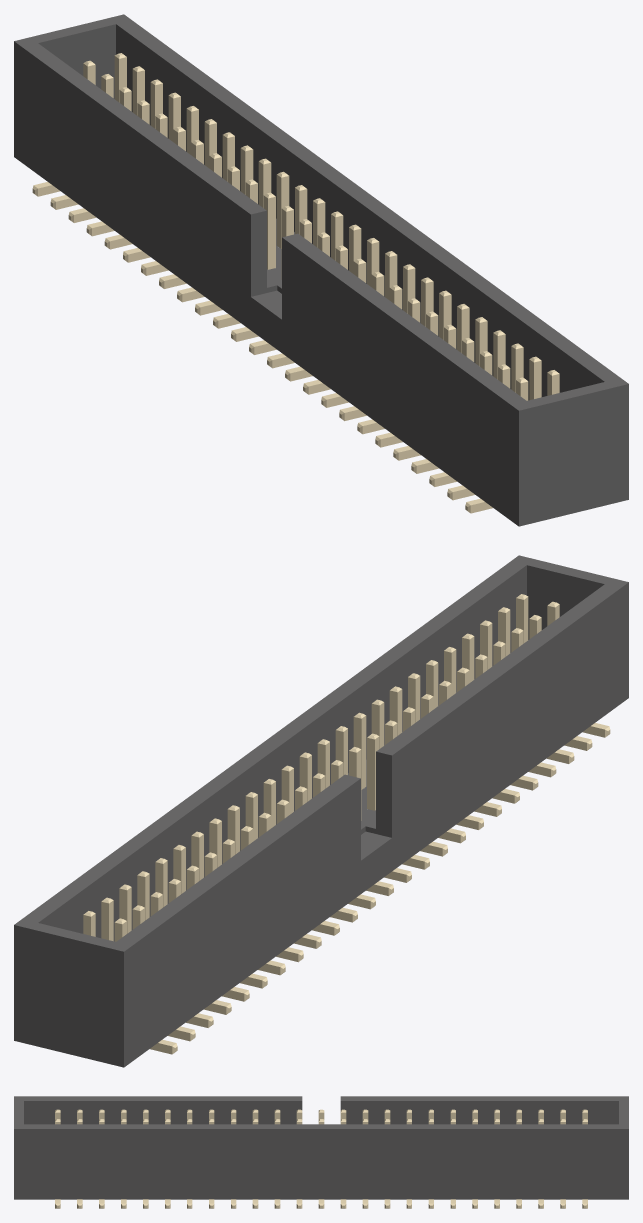
The model's file is kc-idc-header_2x25_p2.54mm_vertical_smd.glb.
3 views of the same model, one above another, from view 1: azimuth 30°, elevation 25°; view 2: azimuth 150°, elevation 25°; view 3: azimuth 270°, elevation 25° (orthographic). The views are drawn at different scales.
Visible parts, largest first — view 1: 0.16666666666666666_0.16666666666666666_0.16666666666666666_, 0.8333333333333334_0.75_0.5_0.9; view 2: 0.16666666666666666_0.16666666666666666_0.16666666666666666_, 0.8333333333333334_0.75_0.5_0.9; view 3: 0.16666666666666666_0.16666666666666666_0.16666666666666666_, 0.8333333333333334_0.75_0.5_0.9.
Part boxes in pixels (x1,y1,x2,y2): 0.16666666666666666_0.16666666666666666_0.16666666666666666_: (14,14,628,526); 0.8333333333333334_0.75_0.5_0.9: (32,53,559,513); 0.16666666666666666_0.16666666666666666_0.16666666666666666_: (14,555,628,1067); 0.8333333333333334_0.75_0.5_0.9: (83,594,610,1054); 0.16666666666666666_0.16666666666666666_0.16666666666666666_: (14,1096,628,1199); 0.8333333333333334_0.75_0.5_0.9: (55,1109,587,1208).
Size of the model in its own units: 1.16 by 0.9641 by 7.11.
